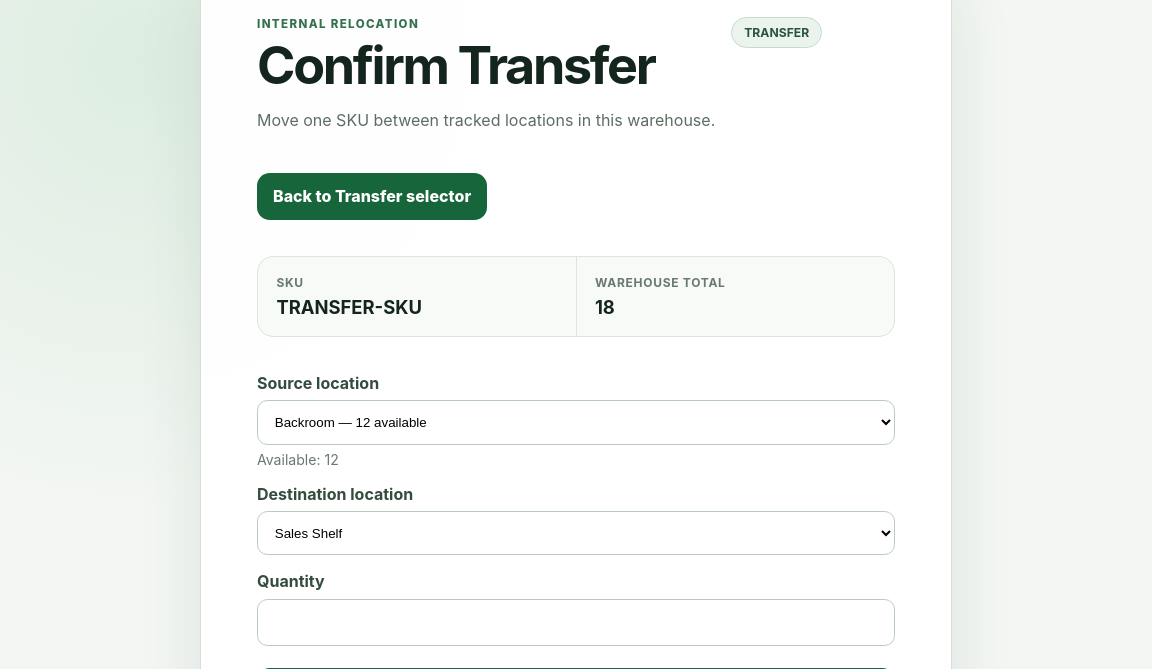
US-TRF-001 Transfer page › generates a new key after the command is edited
Expected: the text "TRANSFER-SKU" is shown, [276,296,422,318]
In the field labelled "Quantity": (576, 622) [257,598,895,646], type "4"
(page scrolled)
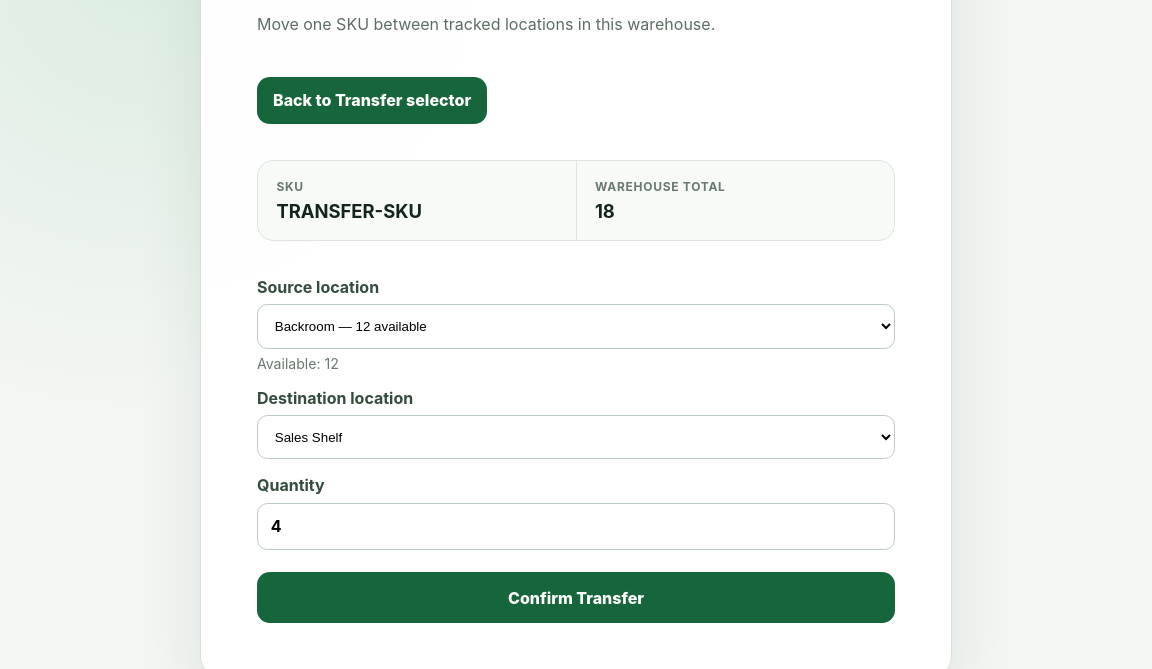
Click the button "Confirm Transfer": click(576, 598) [257,572,895,623]
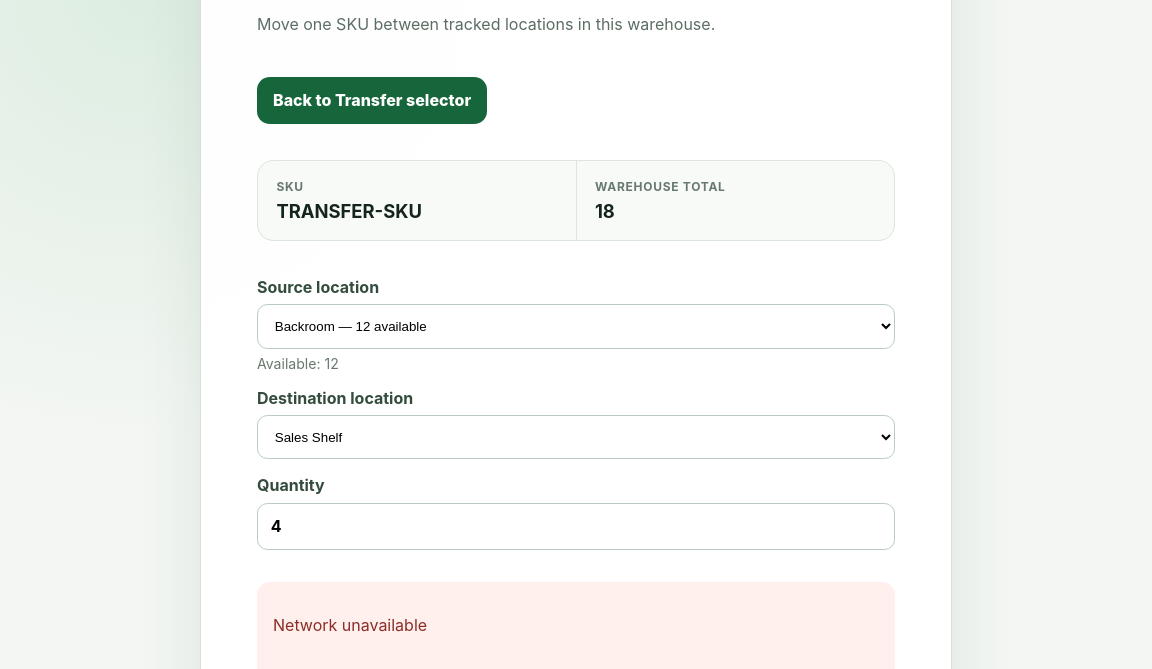
Replace the text in the field labelled "Quantity" with "3": (576, 526) [257,502,895,550]
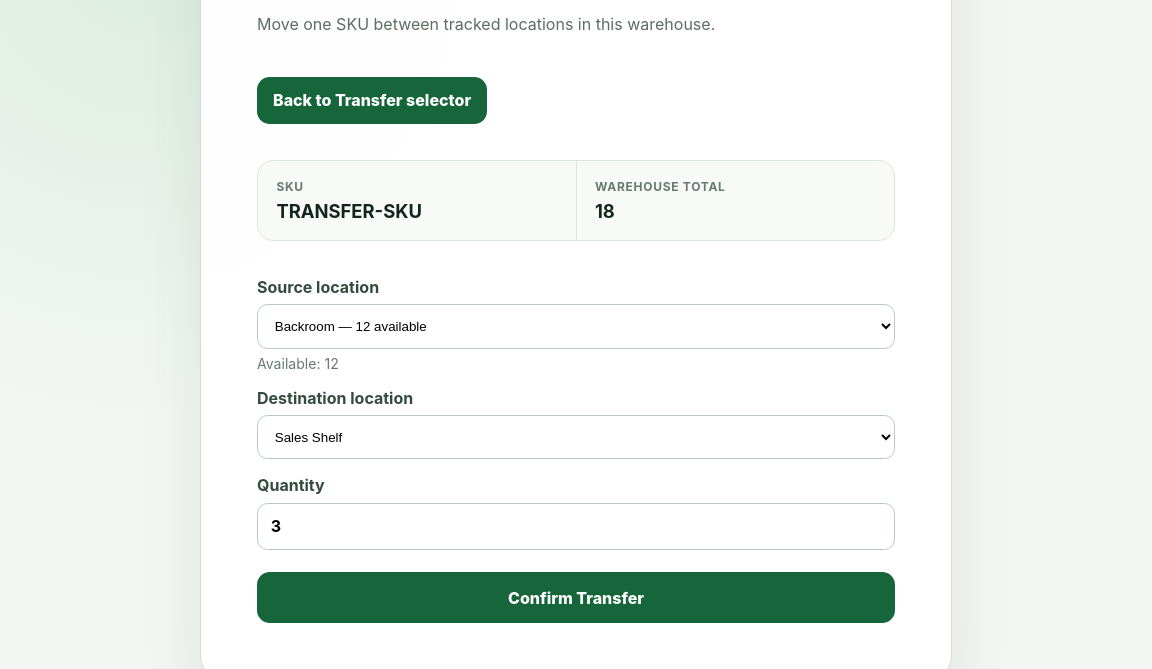
Click the button "Confirm Transfer": click(576, 598) [257,572,895,623]
(page scrolled)
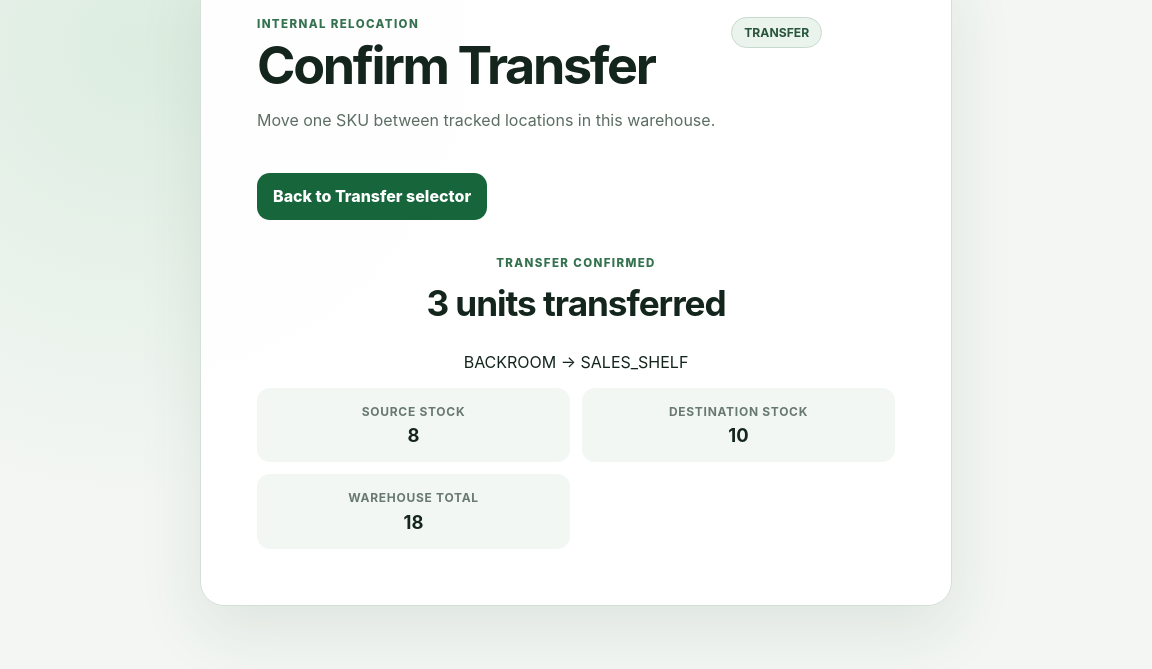
Now the text "Transfer confirmed" is shown, box [496,256,656,270]
